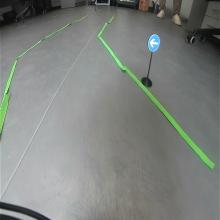left: (148, 34, 160, 52)
